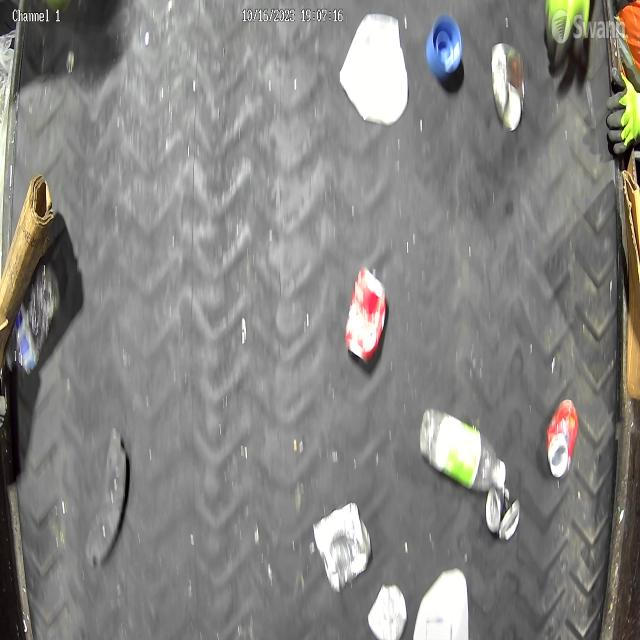can: (313, 499, 372, 592), (343, 264, 389, 368), (490, 42, 525, 134), (545, 396, 580, 481), (367, 582, 407, 640), (485, 483, 522, 542)
milk_jug: (412, 567, 469, 640)
plastic_bottle: (418, 405, 508, 496), (5, 261, 60, 376)
